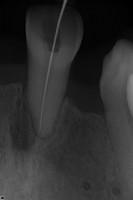Furcation Involvement: (8, 86, 36, 152)
